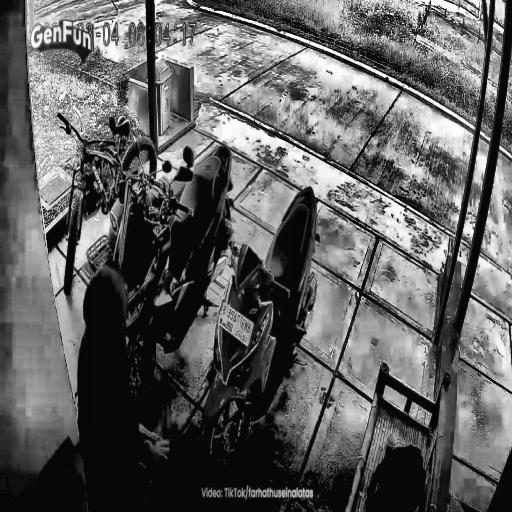aman: (156, 0, 472, 396), (455, 149, 512, 477), (42, 0, 145, 64)
